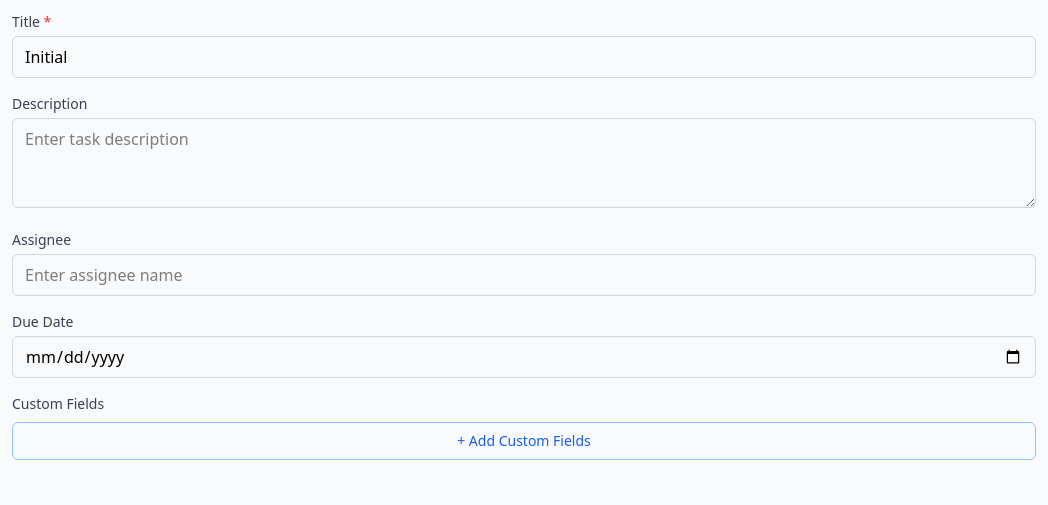
Test: Node Configuration Forms › TaskNodeForm › shows validation error for empty title
The image size is (1048, 505).
Clear the field labelled "Title *" at (524, 57), box [12,36,1036,78]
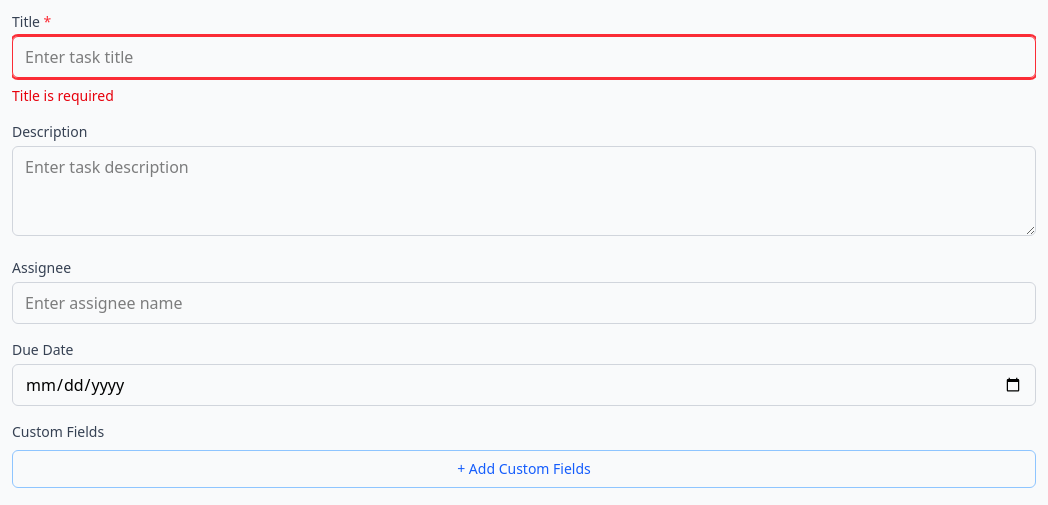
Check: the text "Title is required" is shown, box [12,86,114,105]
